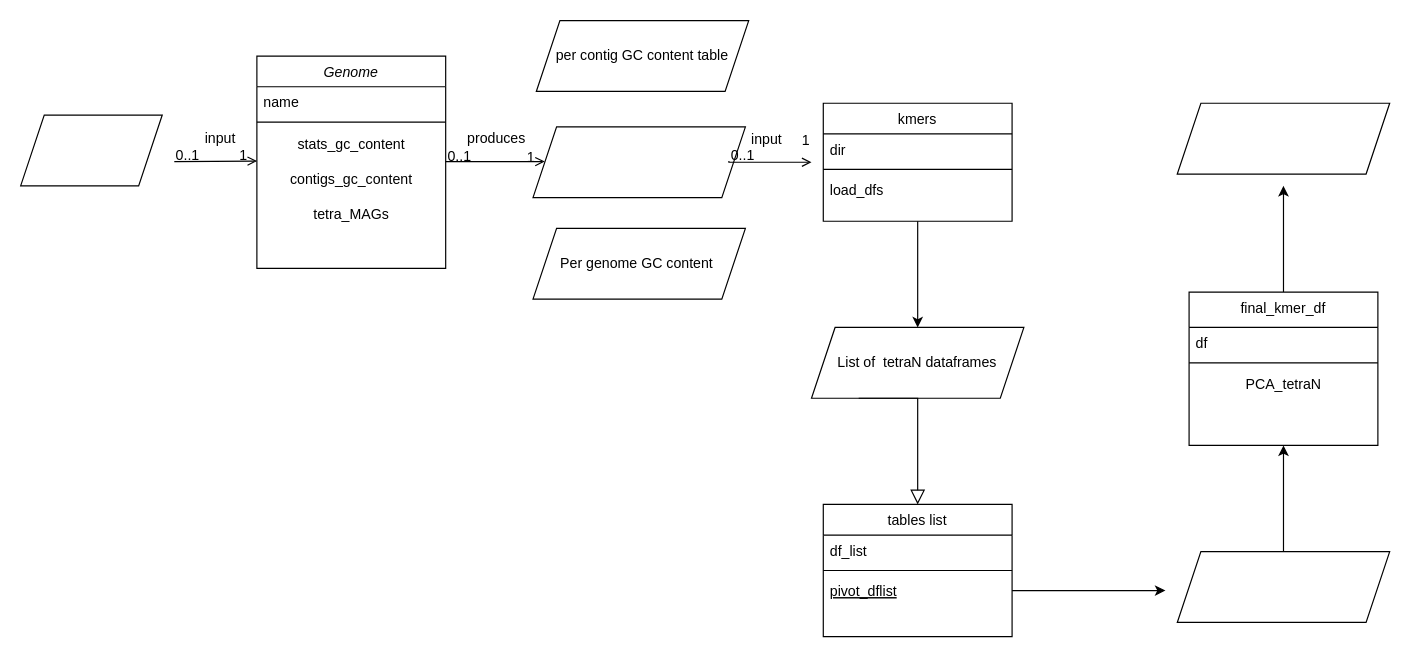
This 1411x657 diagram has some shape labels left out. The shapes that lost their labels are listed below. From the top down, each one's centre as x and y in pixels, then its label:
the point at 90,150: MAG
the point at 1283,138: PCA plot
the point at 638,162: per contig tetranucleotide frequencies
the point at 1283,586: tetraN Frequencies table
